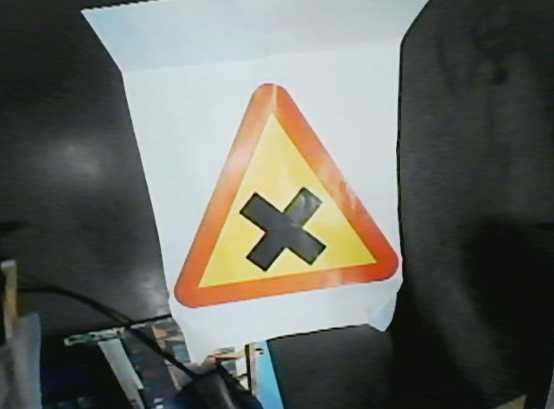junction: (155, 86, 403, 305)
